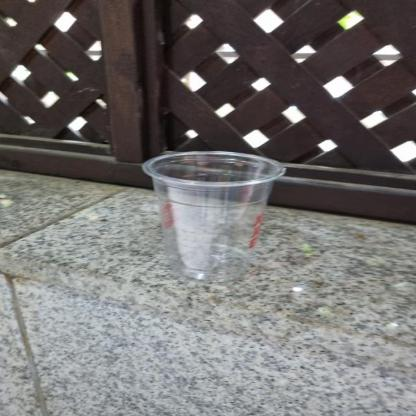Plastic Cup: (134, 146, 291, 288)
